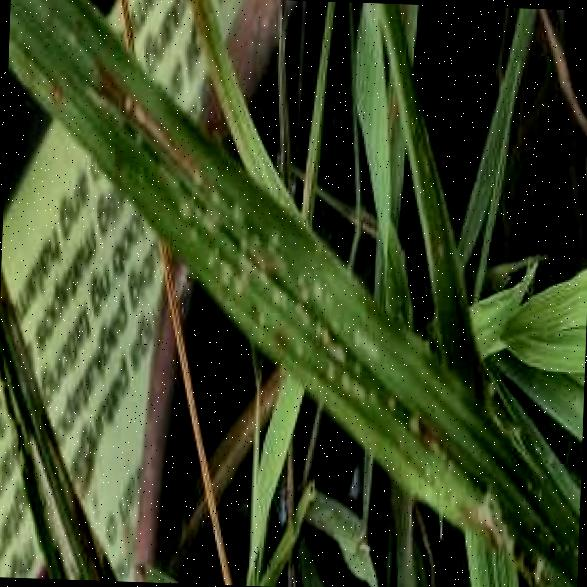Leaf_smut: (22, 47, 560, 566)
